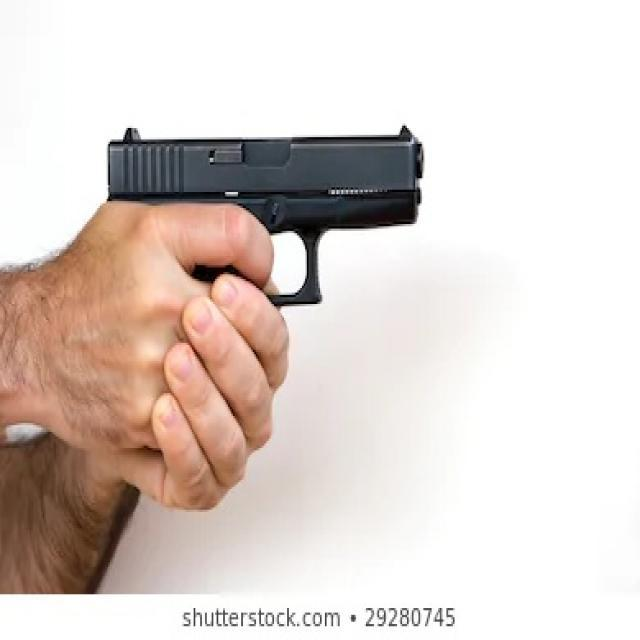gun-knife-thesis - v11 Yolov5 augmented: (94, 116, 426, 412)
